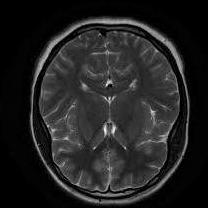Normal_Brain: (1, 1, 202, 208)
